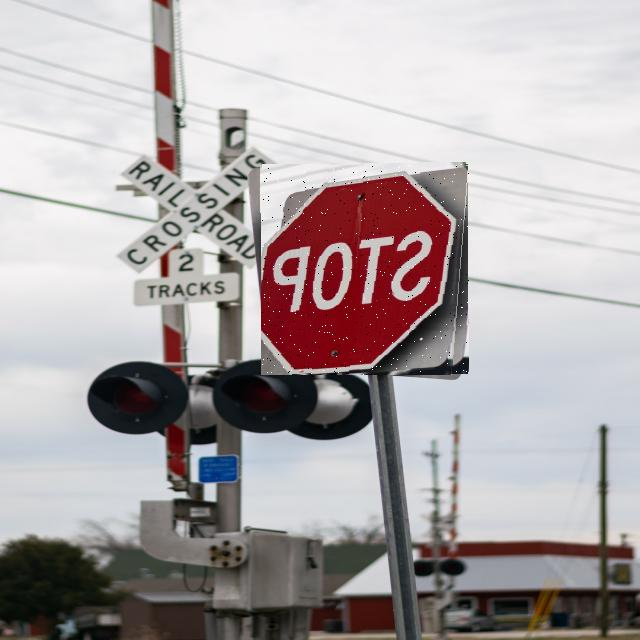stop: (261, 163, 469, 375)
